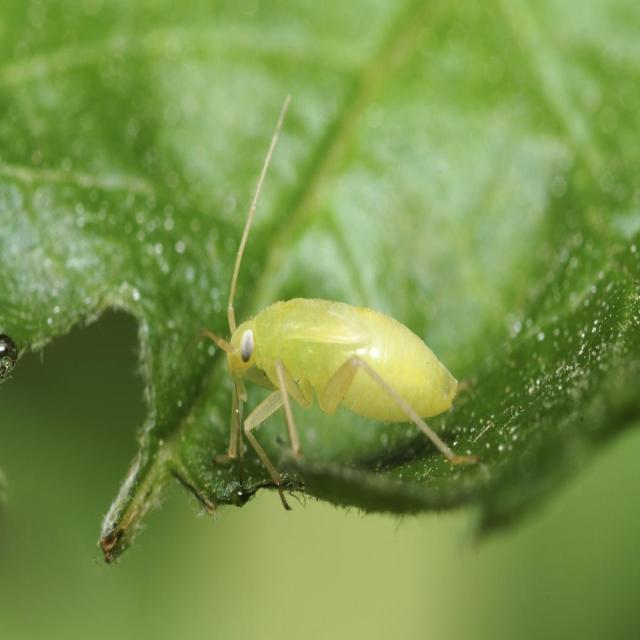Aphids: (187, 177, 514, 530)
